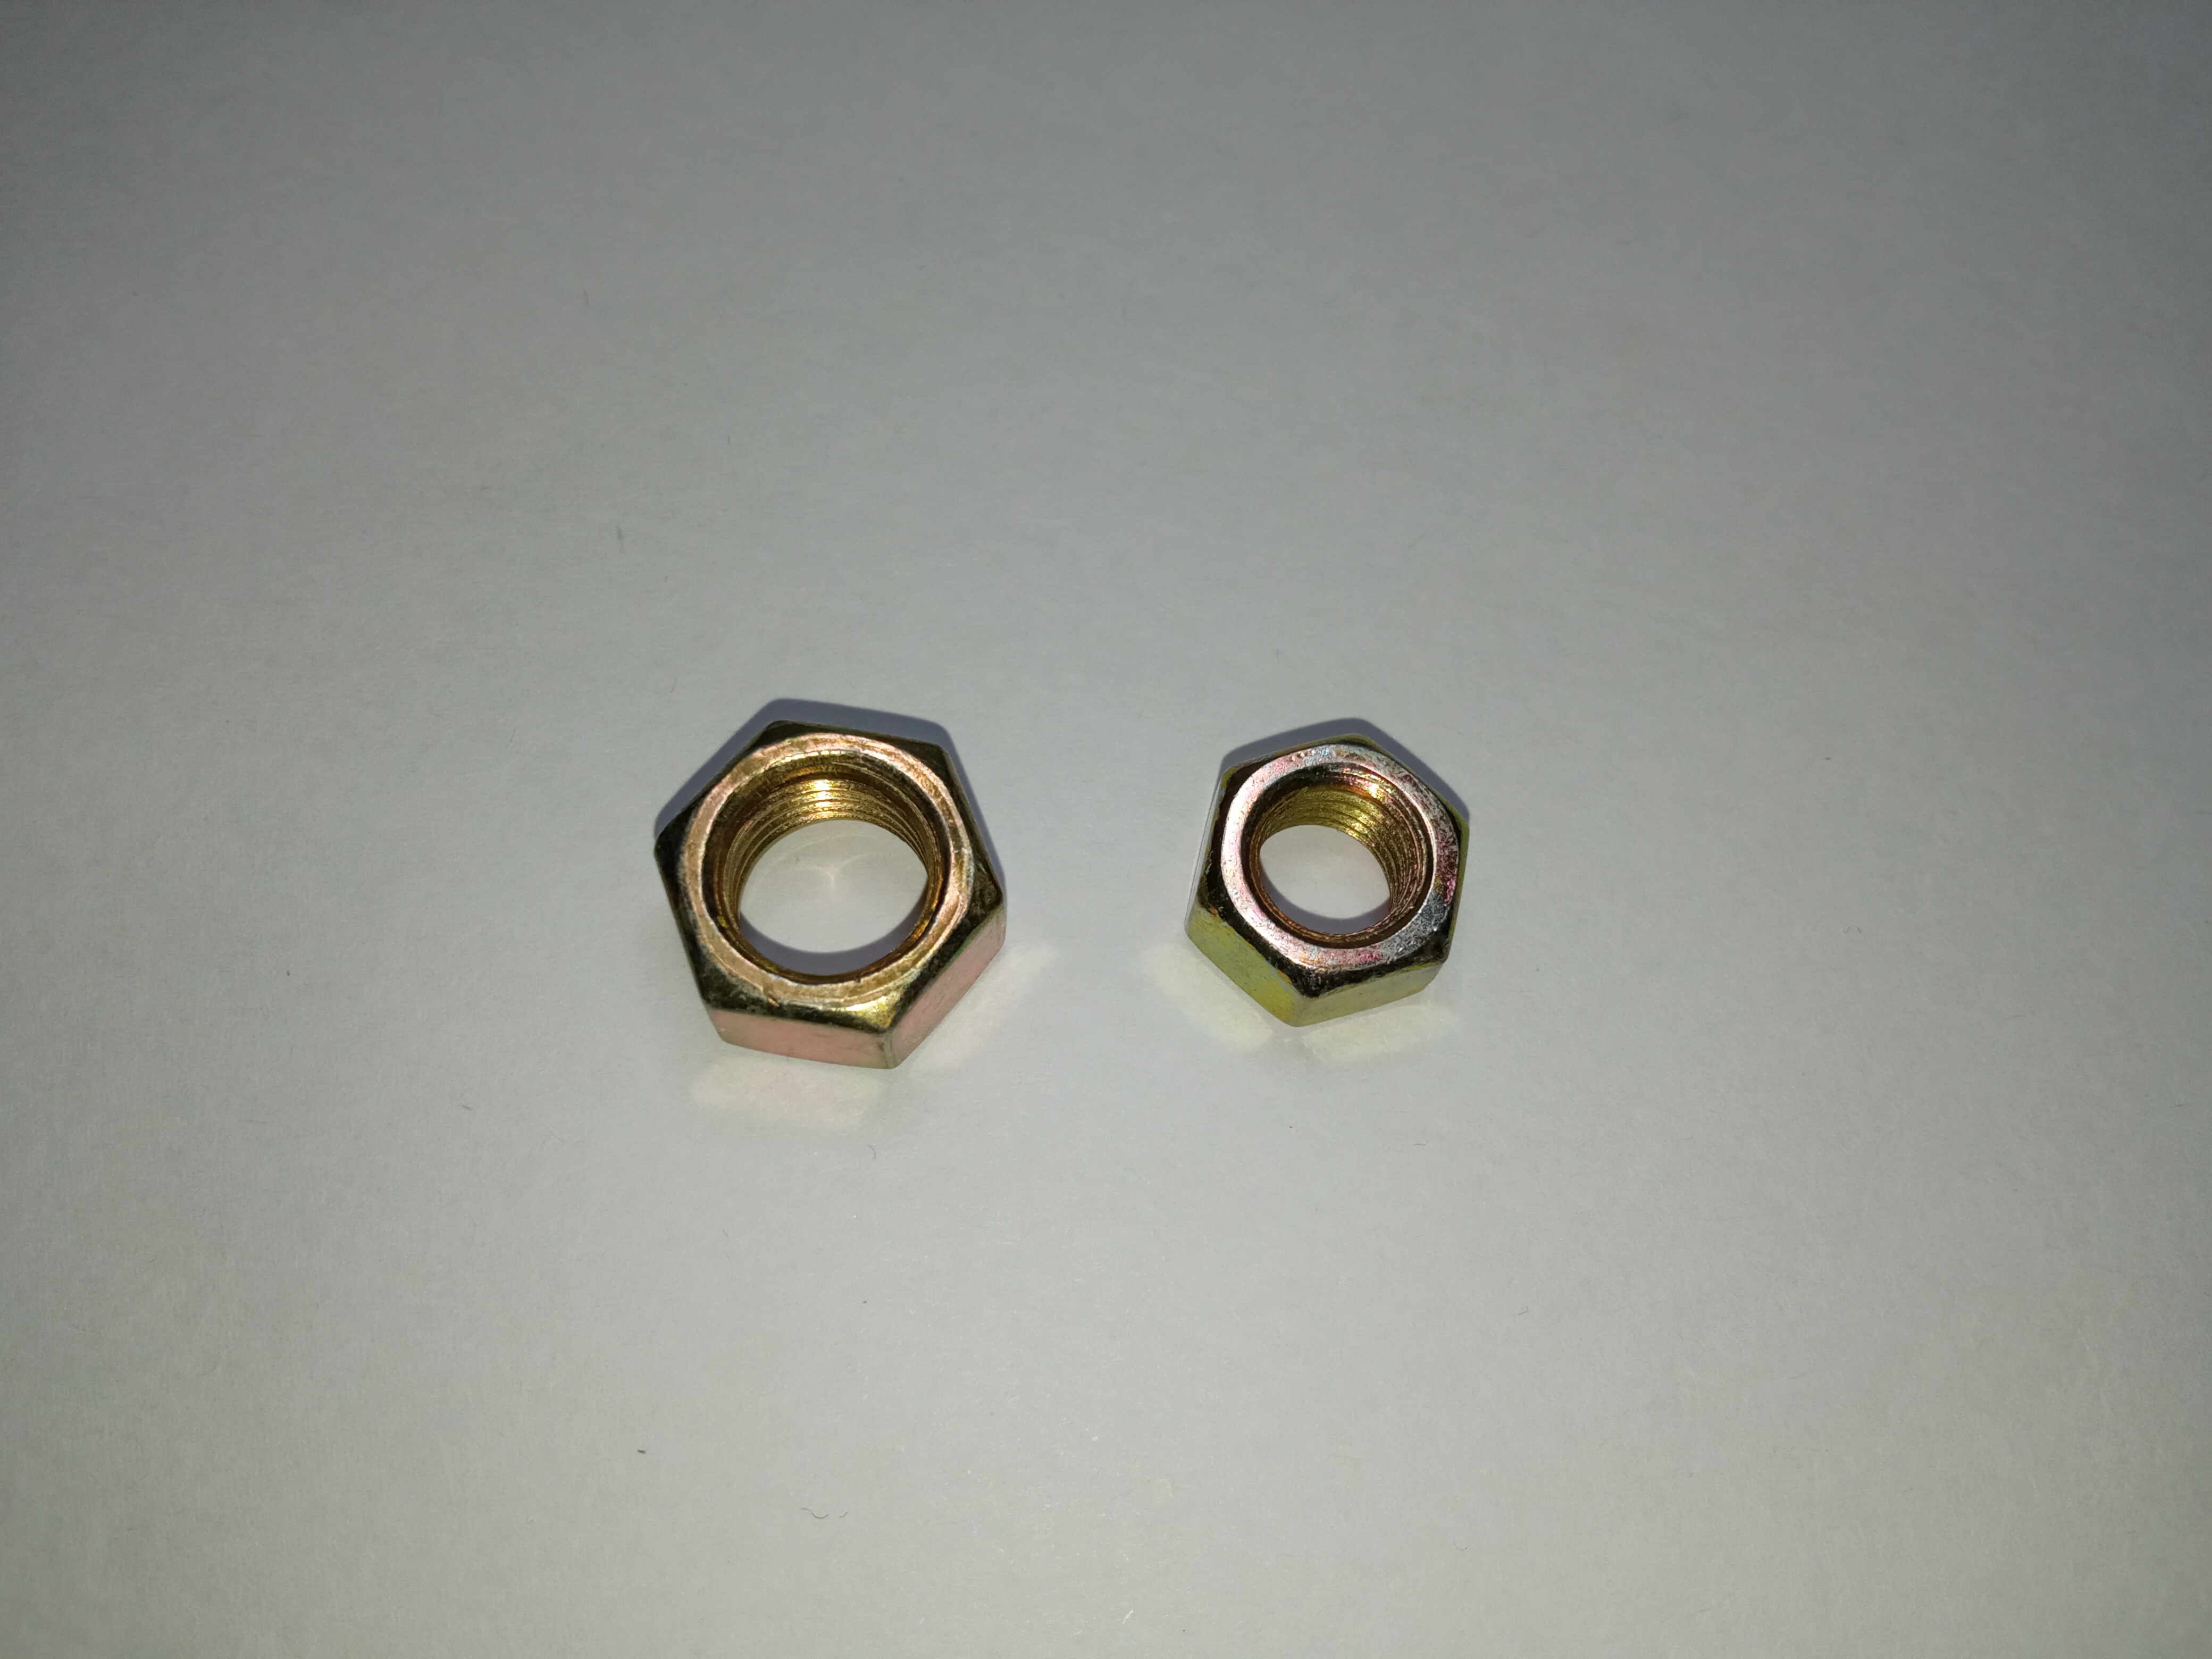m10: (651, 718, 1017, 1044)
m8: (1202, 725, 1477, 1002)
